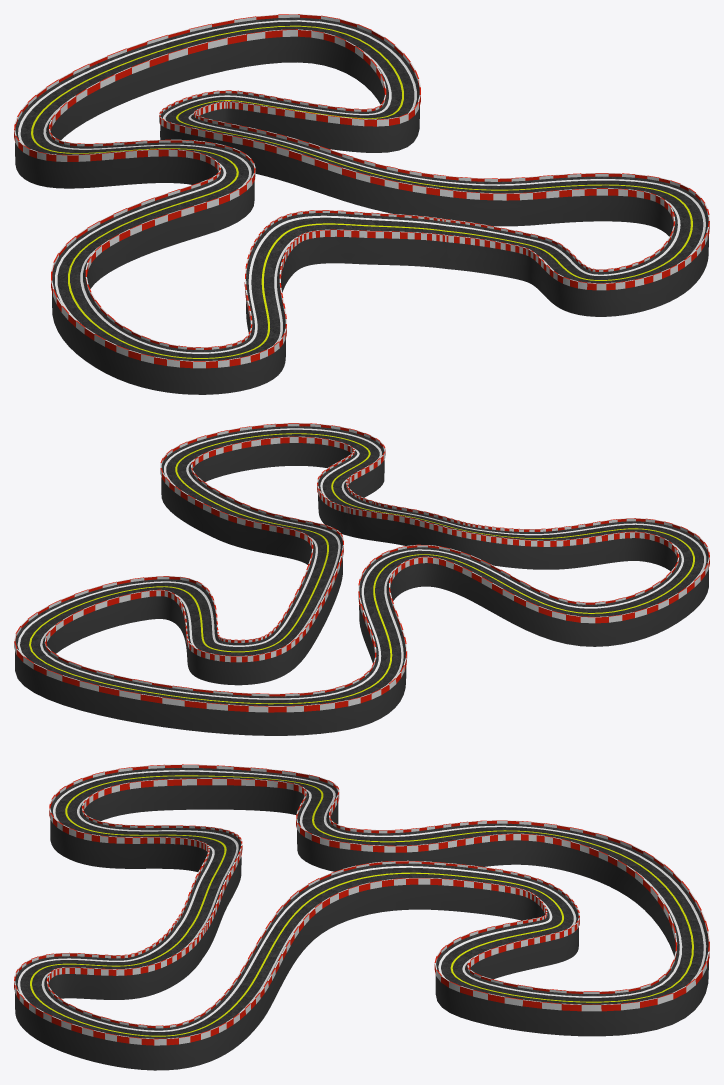
File: mongo_curcuit.fbx
3 views of the same model, one above another, from view 1: azimuth 30°, elevation 25°; view 2: azimuth 150°, elevation 25°; view 3: azimuth 270°, elevation 25° (orthographic). The views are drawn at different scales.
Visible parts, largest first — view 1: NurbsCurve, NurbsCurve.001, NurbsCurve.004; view 2: NurbsCurve, NurbsCurve.001, NurbsCurve.004; view 3: NurbsCurve, NurbsCurve.001, NurbsCurve.004.
Boxes of the visible parts, left/top/right/bottom form: NurbsCurve: left=15, top=17, right=708, bottom=394; NurbsCurve.001: left=14, top=14, right=709, bottom=368; NurbsCurve.004: left=48, top=29, right=675, bottom=349; NurbsCurve: left=15, top=426, right=708, bottom=735; NurbsCurve.001: left=14, top=423, right=709, bottom=712; NurbsCurve.004: left=44, top=436, right=679, bottom=696; NurbsCurve: left=15, top=767, right=708, bottom=1070; NurbsCurve.001: left=14, top=764, right=709, bottom=1045; NurbsCurve.004: left=46, top=778, right=677, bottom=1028.
Size of the model in its own units: 5682 by 701 by 6082.
